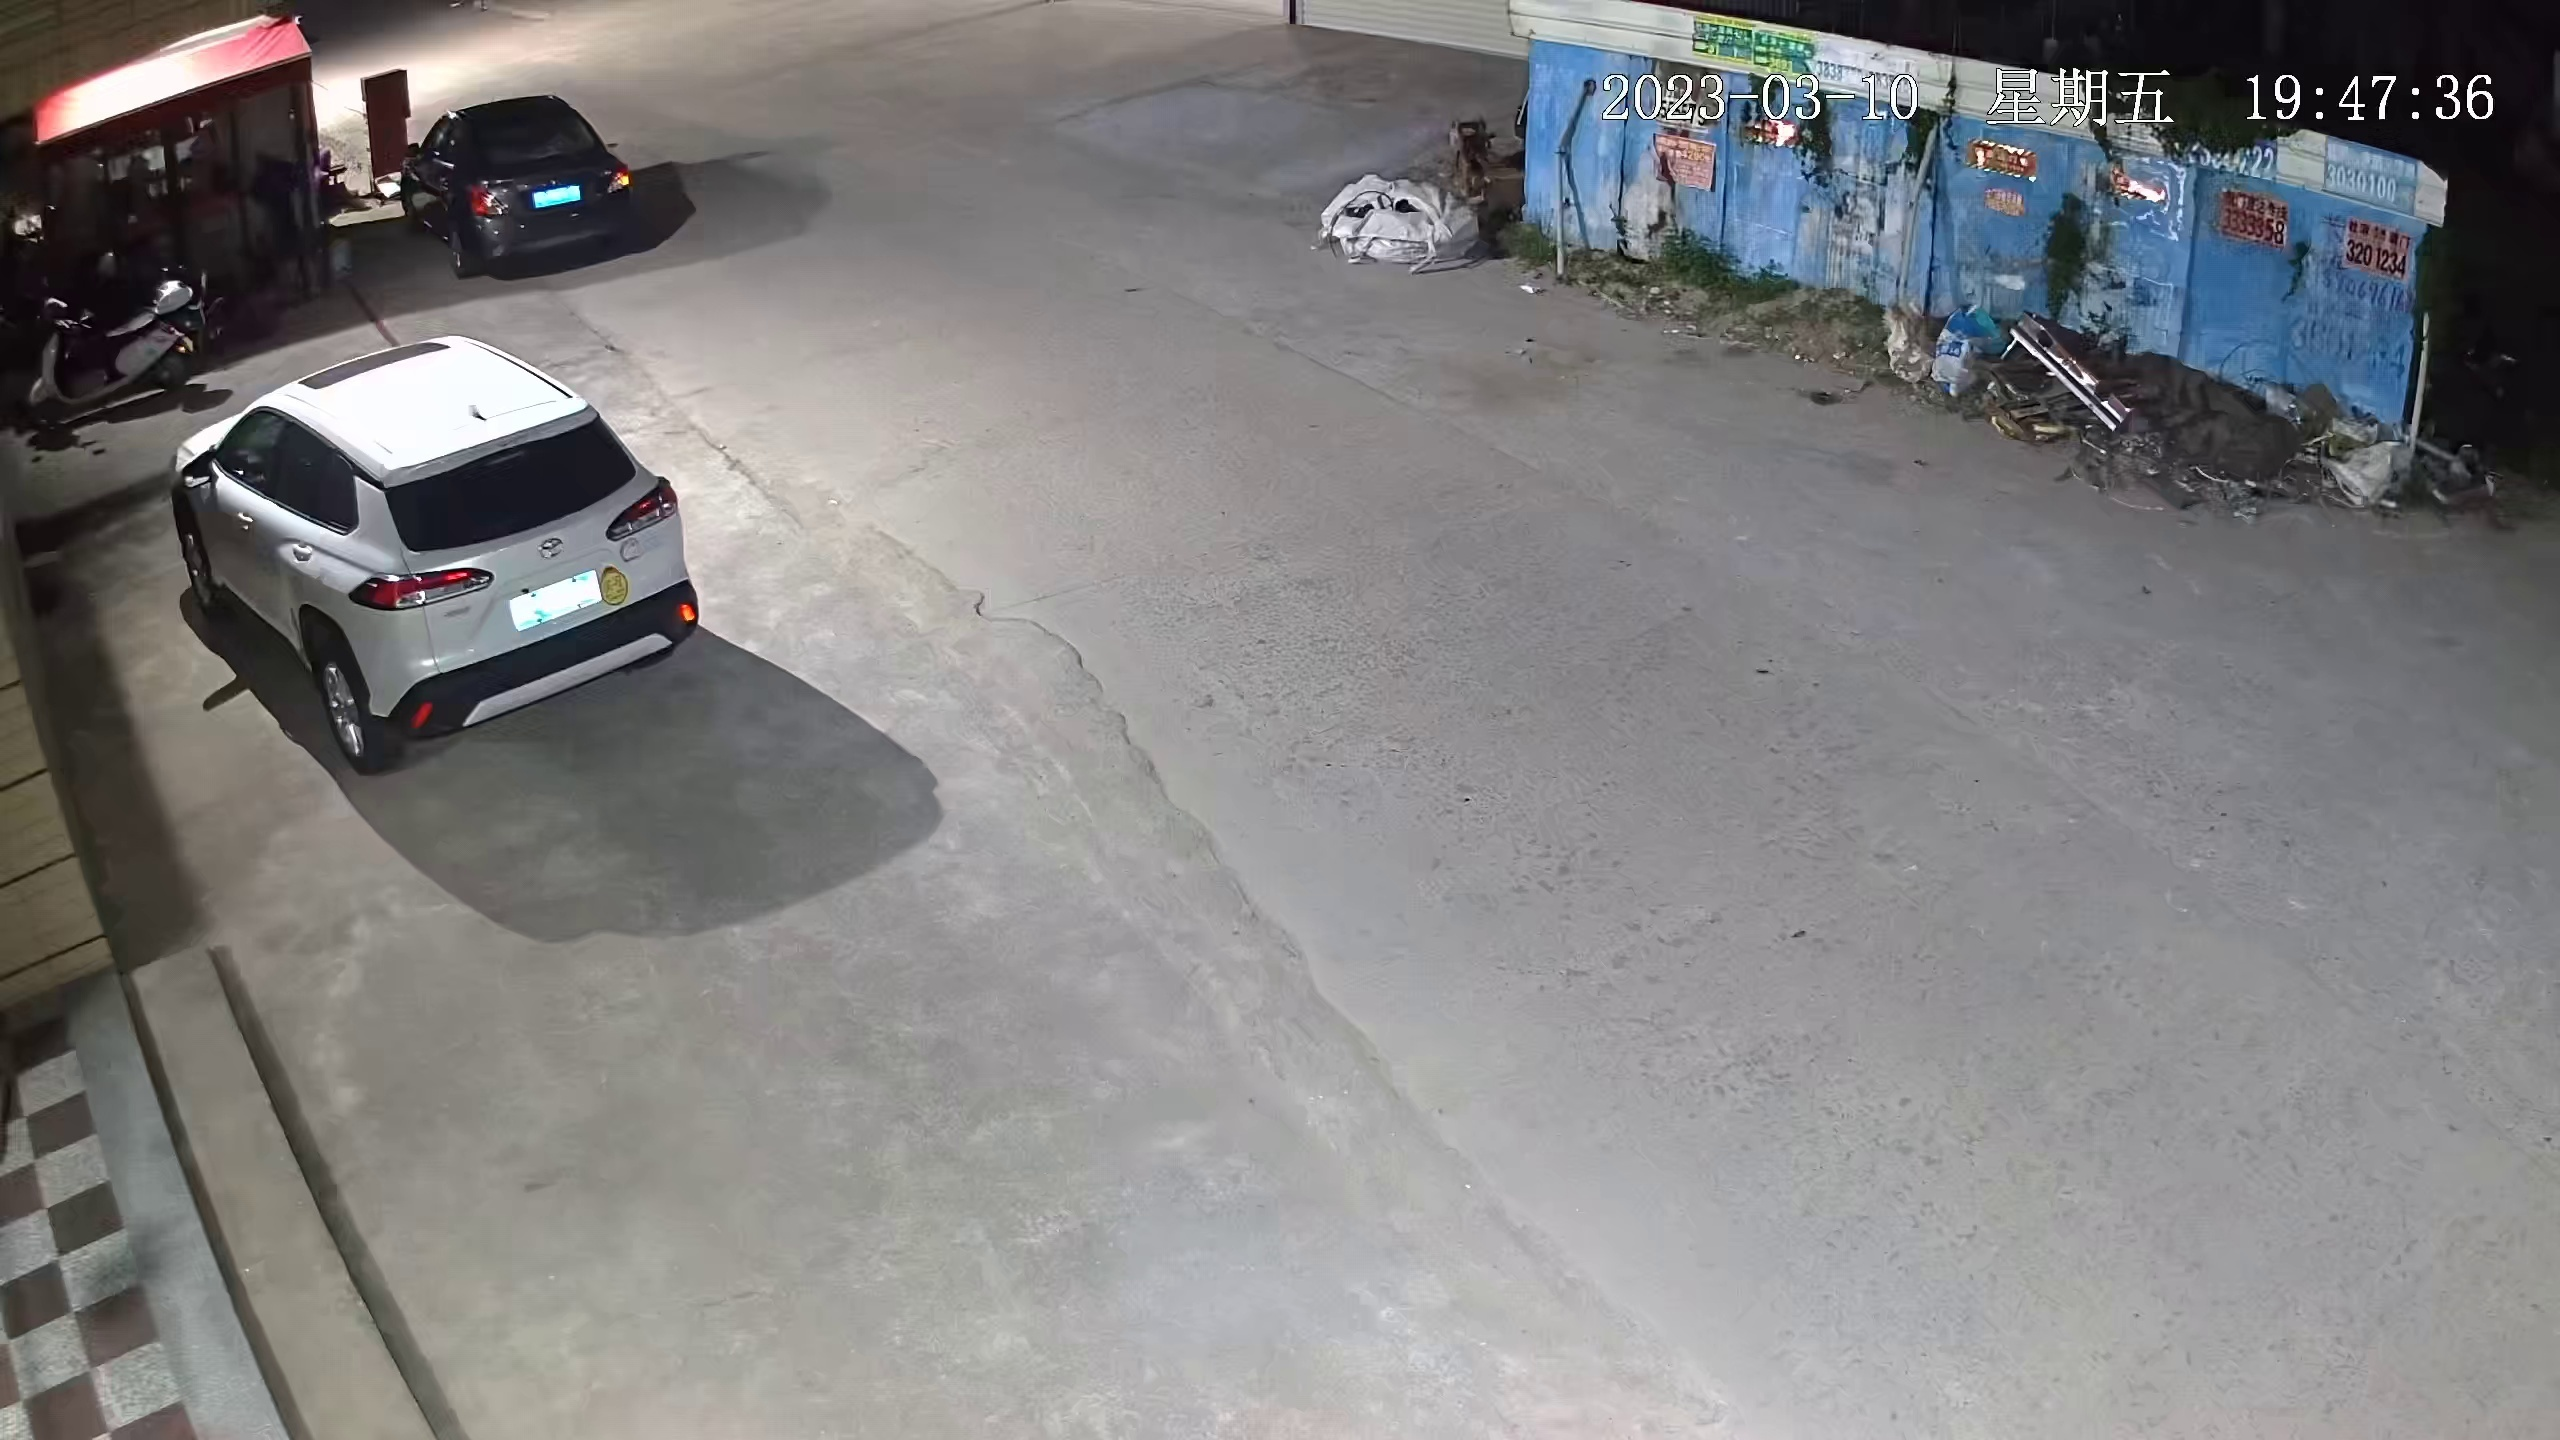motorcycle: (19, 280, 209, 420)
sedan: (390, 95, 649, 274)
suv: (164, 339, 712, 768)
